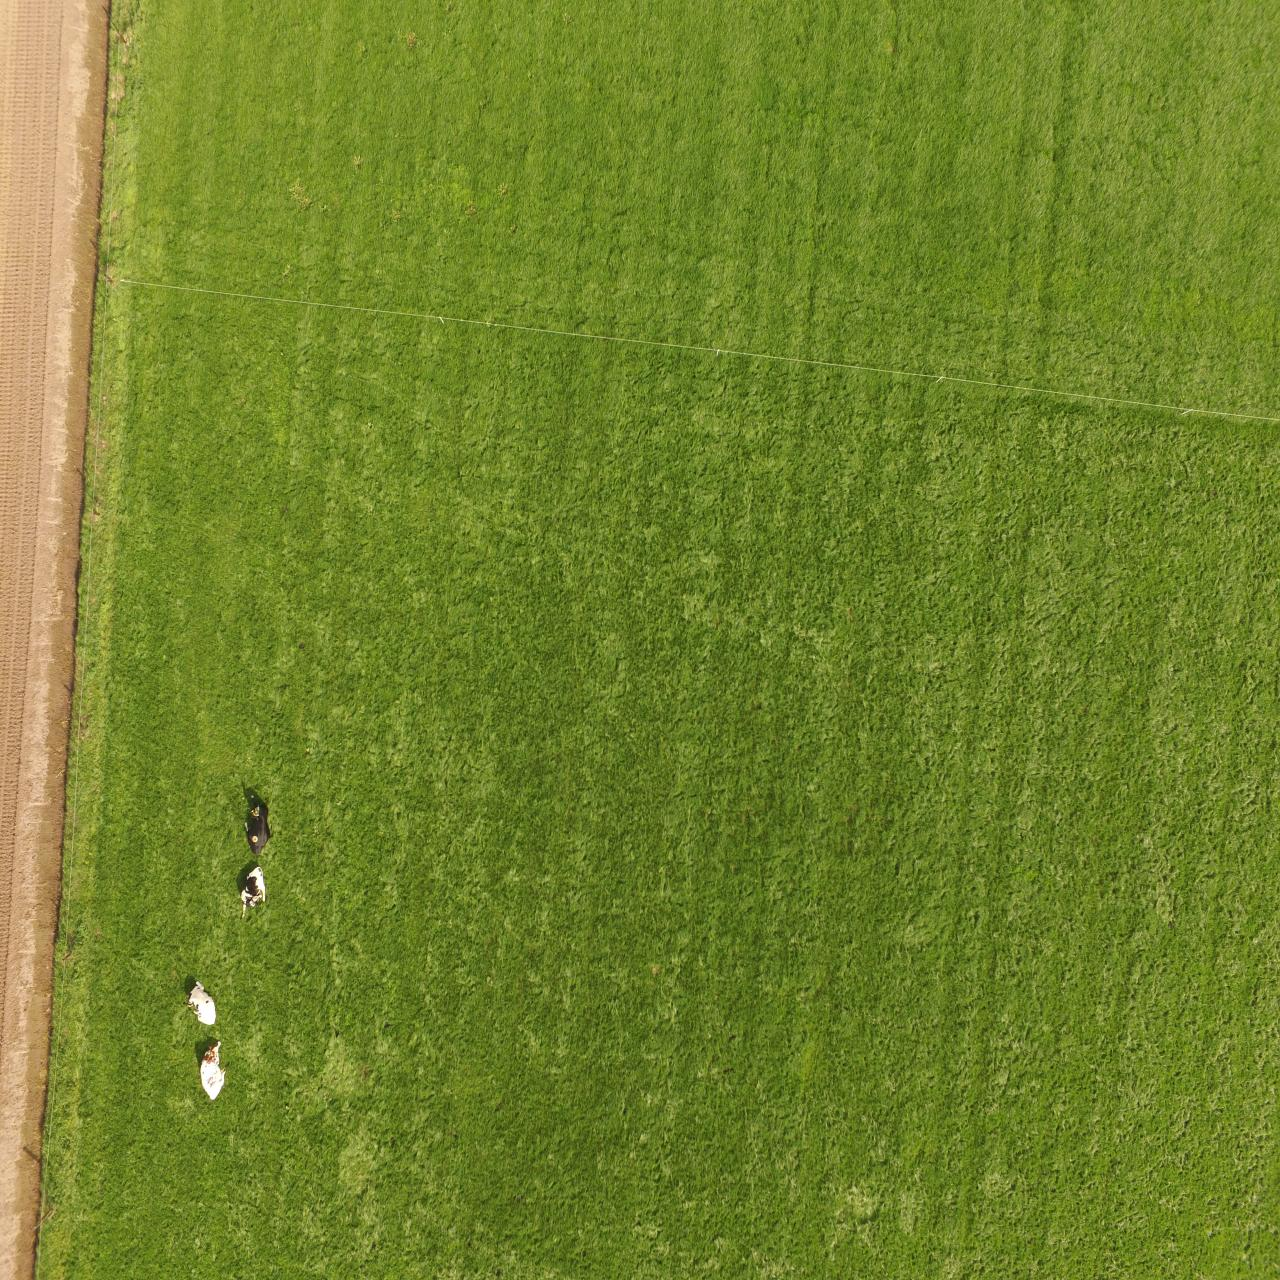cow: (197, 1040, 226, 1102), (244, 795, 271, 857), (185, 978, 217, 1026), (239, 864, 267, 917)
